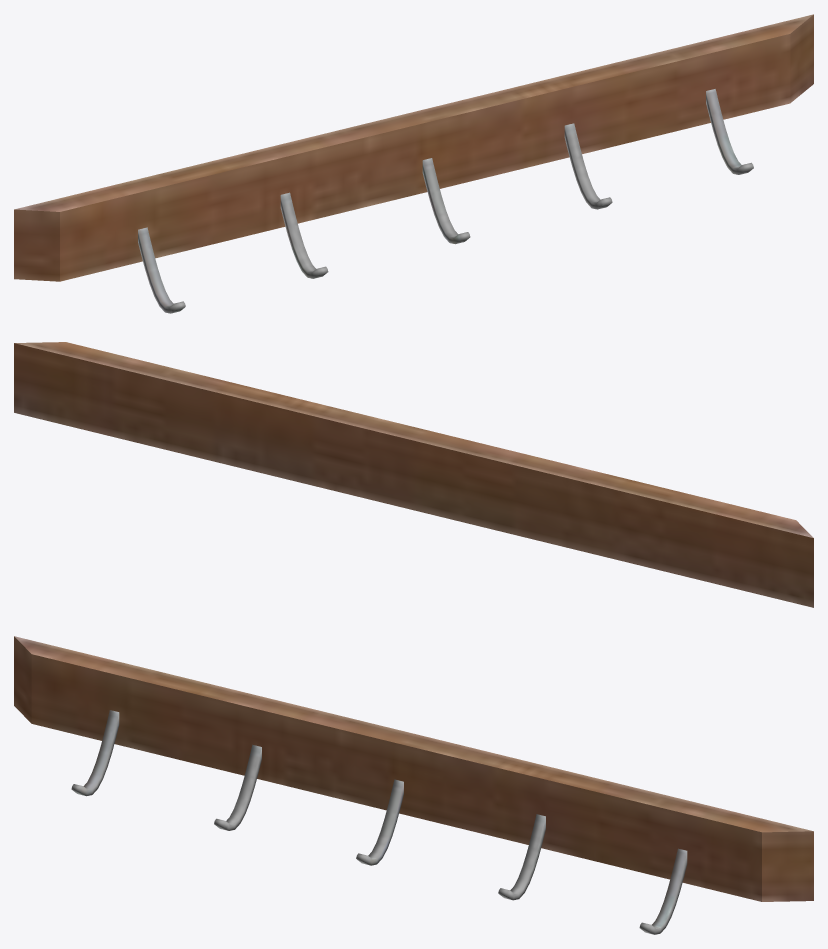
The model's file is wall hanger.fbx.
3 renders of one model, top to bottom at view 1: azimuth 30°, elevation 25°; view 2: azimuth 150°, elevation 25°; view 3: azimuth 330°, elevation 25°, orthographic.
Parts seen in each view (by area): view 1: wall hanger; view 2: wall hanger; view 3: wall hanger.
Boxes of the visible parts, x1,y1,x2,y2 form: wall hanger: [14, 14, 813, 313]; wall hanger: [14, 342, 813, 607]; wall hanger: [14, 636, 813, 934].
Size of the model in its own units: 81.19 by 9.68 by 9.22.
